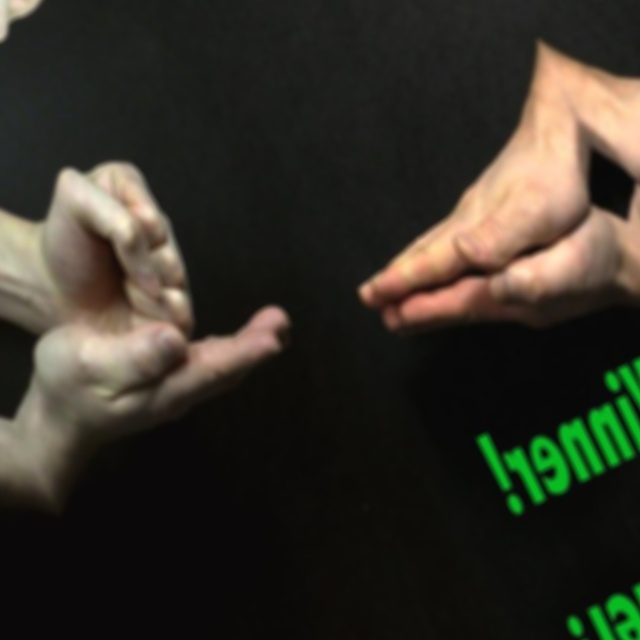Paper: (321, 106, 603, 329)
Rock: (2, 137, 220, 386)
